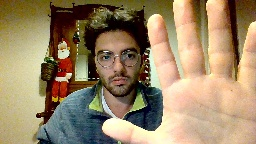Mano_aperta: (101, 0, 256, 144)
